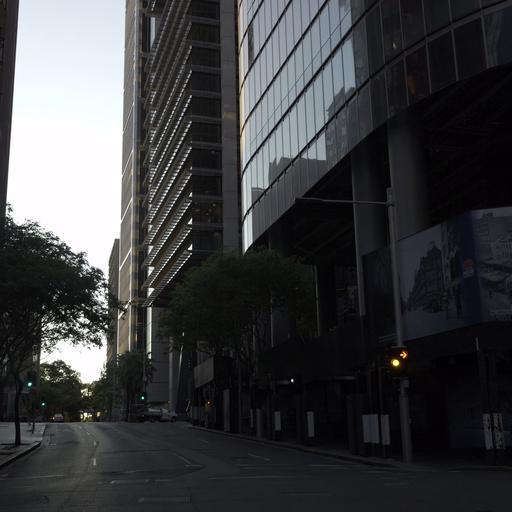Street light: (294, 191, 412, 462), (13, 378, 32, 445), (385, 344, 409, 371), (139, 391, 146, 401), (26, 380, 32, 387)
